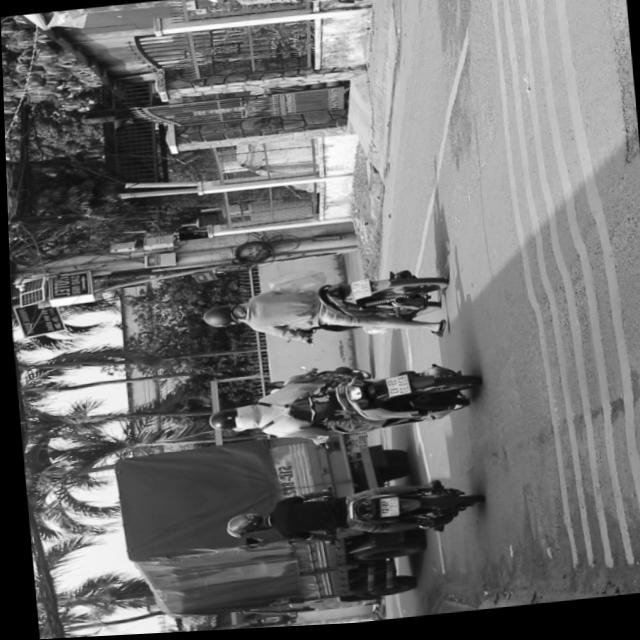helmet: (203, 404, 255, 435), (219, 510, 265, 539), (199, 302, 243, 330)
licenseplate: (200, 359, 477, 452), (196, 267, 449, 358), (218, 474, 477, 557)
nohelmet: (380, 377, 407, 399), (348, 282, 370, 302), (375, 500, 397, 520)
